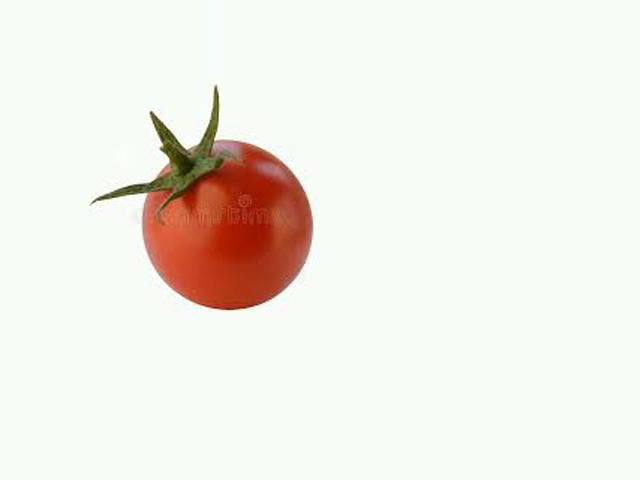tomato: (144, 141, 313, 310)
